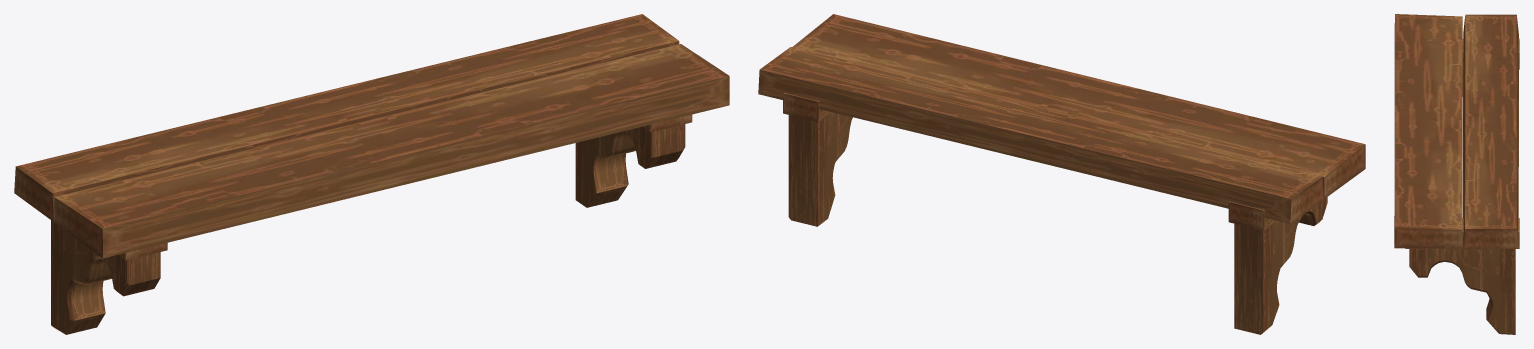
Rendered from prop_shelf.glb.
3 views of the same model, side by side, from view 1: azimuth 30°, elevation 25°; view 2: azimuth 150°, elevation 25°; view 3: azimuth 270°, elevation 25° (orthographic). The views are drawn at different scales.
Parts seen in each view (by area): view 1: Shelf_Simple; view 2: Shelf_Simple; view 3: Shelf_Simple.
Part boxes in pixels (x1,y1,x2,y2): Shelf_Simple: [14, 14, 729, 334]; Shelf_Simple: [758, 14, 1365, 334]; Shelf_Simple: [1394, 14, 1519, 334].
Size of the model in its own units: 1.18 by 0.3087 by 0.2923.
Materials: 1 (1 with a texture image).
